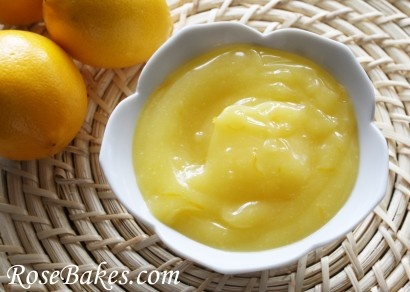background: (84, 19, 231, 114), (0, 0, 110, 73)
